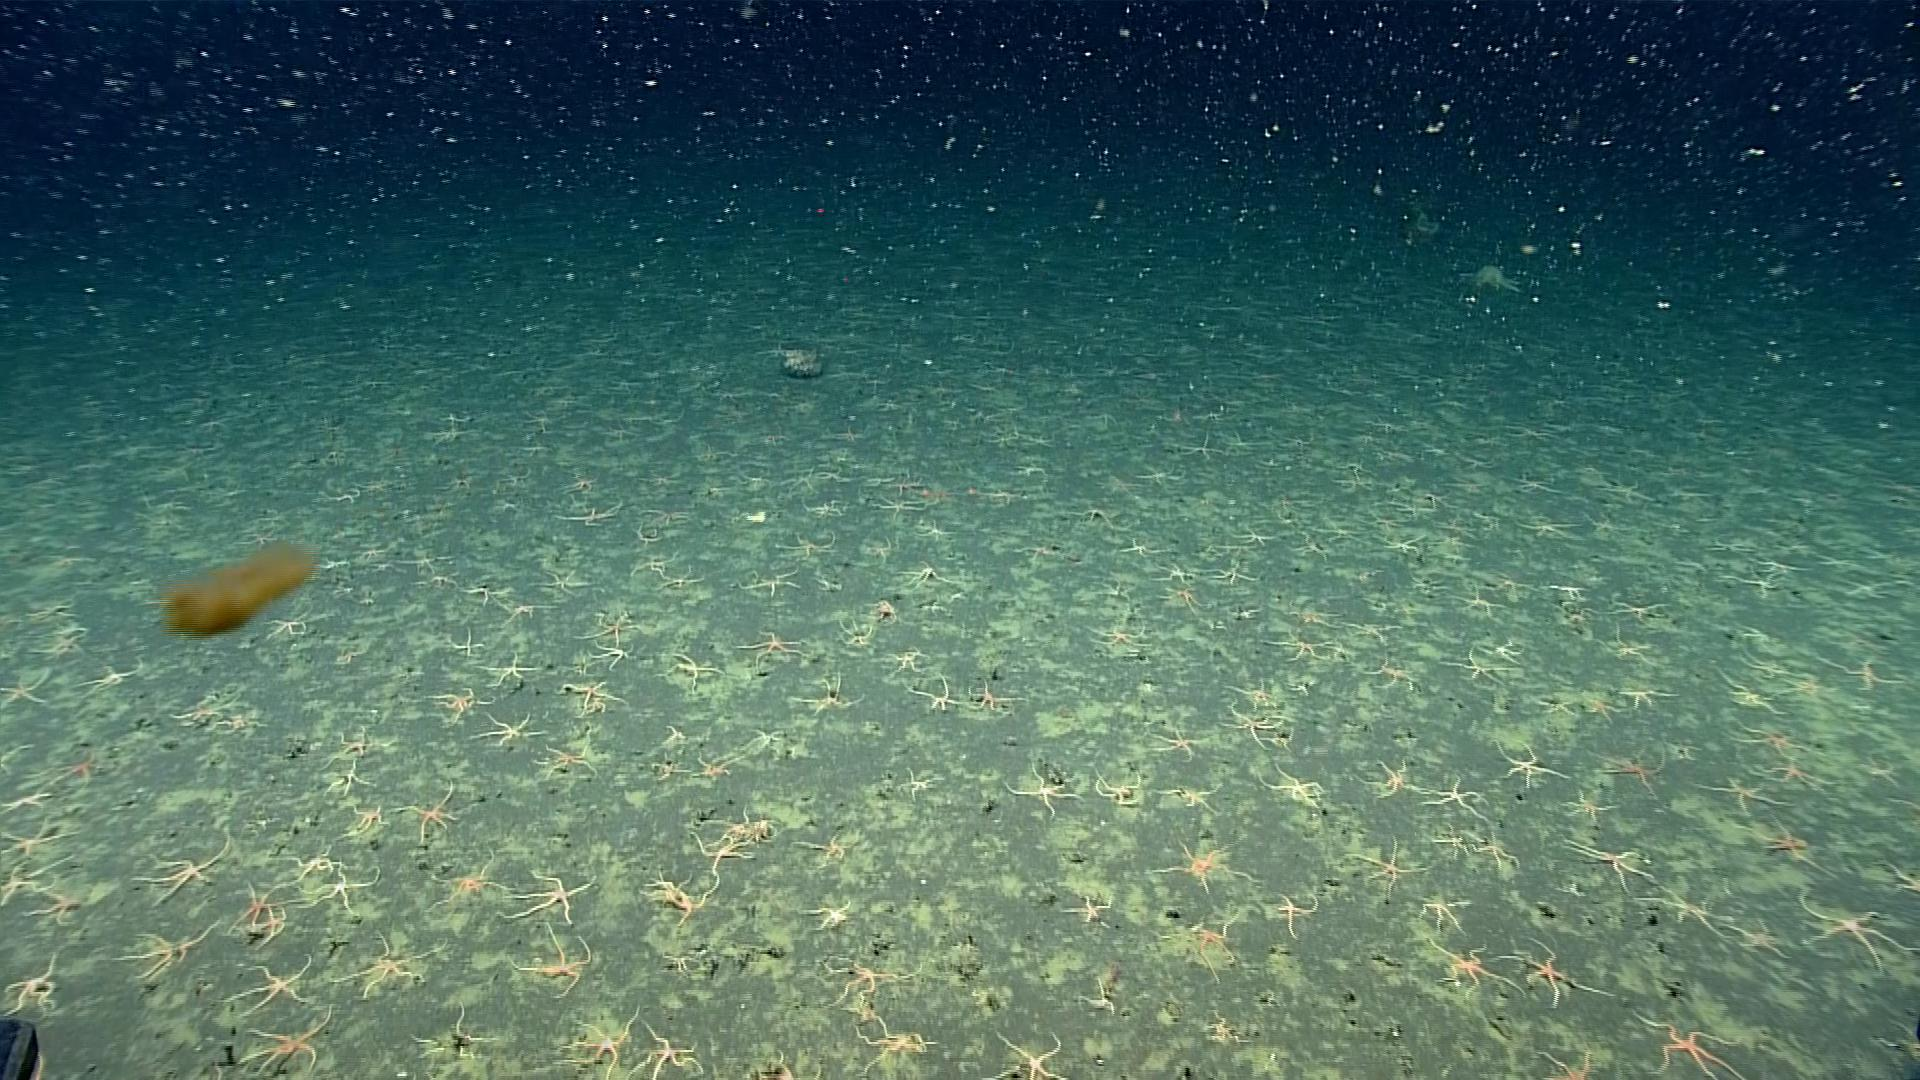brittle_sea_star: (1497, 936, 1618, 1007), (129, 831, 235, 907), (328, 932, 447, 1000), (1792, 895, 1904, 965), (1634, 1013, 1747, 1079), (235, 1004, 334, 1079), (111, 920, 219, 981), (512, 924, 595, 1001), (554, 1007, 638, 1079), (1741, 814, 1833, 877), (222, 953, 315, 1015), (1425, 938, 1524, 996), (1634, 882, 1734, 938), (1149, 843, 1255, 893), (851, 1013, 939, 1072), (808, 957, 905, 1011), (505, 865, 592, 924), (411, 1002, 498, 1060), (1170, 911, 1242, 980), (640, 864, 719, 926), (429, 848, 504, 913), (1002, 760, 1083, 819), (978, 1029, 1073, 1079), (1565, 841, 1656, 893), (1344, 839, 1424, 897), (390, 777, 459, 843), (1695, 774, 1797, 816), (298, 868, 385, 916), (628, 1022, 700, 1079), (1486, 741, 1573, 787), (225, 881, 286, 947), (1, 952, 62, 1017), (687, 818, 750, 877), (0, 857, 76, 906), (791, 669, 864, 717), (1601, 746, 1667, 799), (1822, 653, 1904, 695), (1254, 761, 1324, 807), (468, 709, 543, 752), (479, 649, 550, 690), (1221, 702, 1282, 749), (1741, 720, 1816, 758), (1444, 647, 1514, 688), (0, 823, 83, 857), (1353, 760, 1420, 802), (1416, 775, 1484, 818), (282, 837, 340, 886), (533, 741, 600, 782), (735, 632, 807, 669), (1412, 893, 1476, 935), (560, 679, 625, 720), (425, 686, 493, 723), (1263, 629, 1332, 663), (1151, 724, 1208, 764), (657, 649, 715, 687), (1766, 753, 1828, 789), (791, 828, 847, 868), (799, 895, 855, 935), (733, 723, 796, 757), (906, 673, 959, 713), (20, 890, 80, 924), (319, 758, 375, 795), (1158, 779, 1220, 812), (716, 807, 775, 841), (1274, 894, 1319, 939), (1552, 790, 1613, 823), (967, 680, 1025, 715), (1724, 920, 1782, 955), (1535, 1044, 1592, 1079), (1229, 675, 1286, 709), (558, 501, 625, 529), (1481, 833, 1528, 872), (1058, 889, 1110, 923), (170, 694, 223, 728), (0, 670, 51, 704), (75, 666, 136, 695), (583, 611, 640, 641), (324, 725, 377, 757), (1606, 630, 1658, 662), (1092, 771, 1141, 804), (893, 765, 938, 800), (1435, 825, 1480, 861), (746, 570, 800, 599), (1081, 625, 1141, 651), (583, 620, 634, 650), (777, 533, 839, 558), (1453, 587, 1505, 616), (0, 790, 62, 814), (1083, 975, 1118, 1014), (1367, 653, 1408, 687), (351, 799, 389, 835), (1156, 585, 1207, 612), (1153, 559, 1199, 587), (1621, 686, 1680, 707), (498, 597, 551, 621), (1230, 524, 1276, 550), (752, 1051, 795, 1079), (215, 711, 265, 735), (1733, 574, 1779, 599), (885, 647, 928, 674), (1617, 599, 1667, 621), (691, 757, 737, 781), (1861, 756, 1898, 785), (462, 583, 509, 605), (906, 559, 944, 587), (63, 753, 102, 781), (833, 622, 873, 649), (621, 554, 667, 576), (1883, 864, 1919, 893), (265, 613, 306, 638), (1487, 633, 1523, 661), (1582, 696, 1619, 723), (1120, 535, 1158, 560), (1212, 563, 1251, 585), (870, 601, 905, 625), (451, 629, 480, 657), (913, 521, 953, 538), (1379, 535, 1422, 551), (653, 760, 683, 778), (658, 724, 684, 745)
